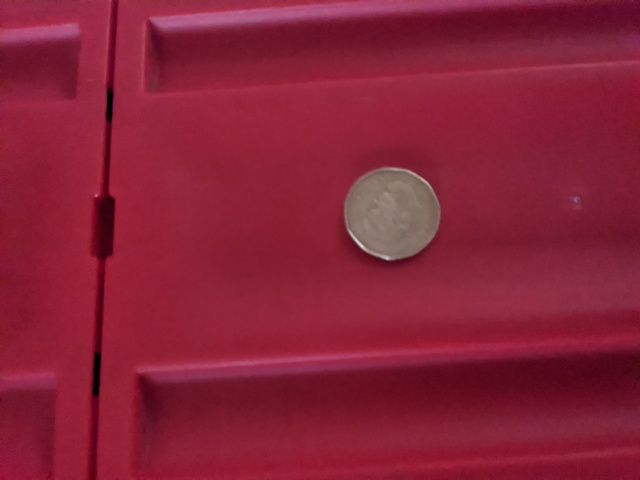loonie: (331, 155, 457, 273)
